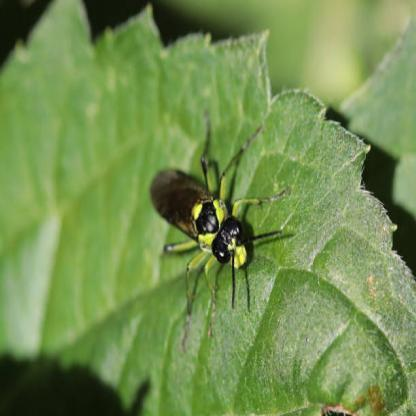sawfly: (145, 114, 295, 313)
